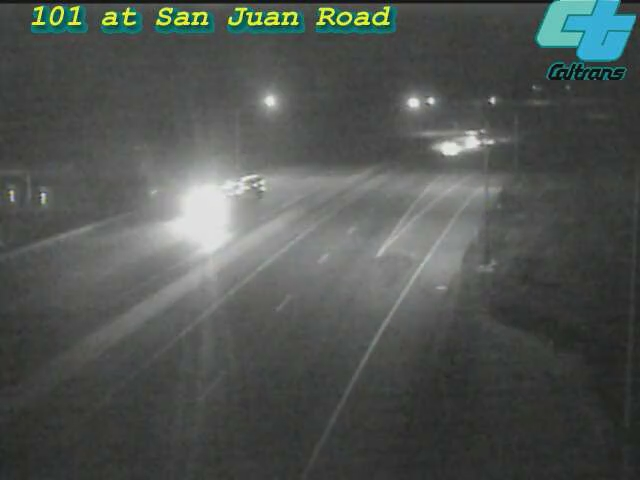vehicle: (165, 161, 245, 241), (453, 113, 503, 163), (428, 122, 478, 172)
